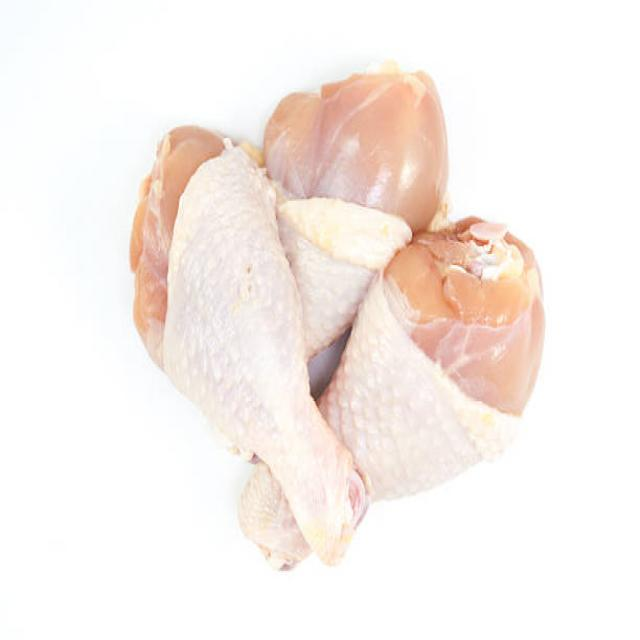Chicken: (114, 131, 354, 555), (355, 230, 558, 506)
